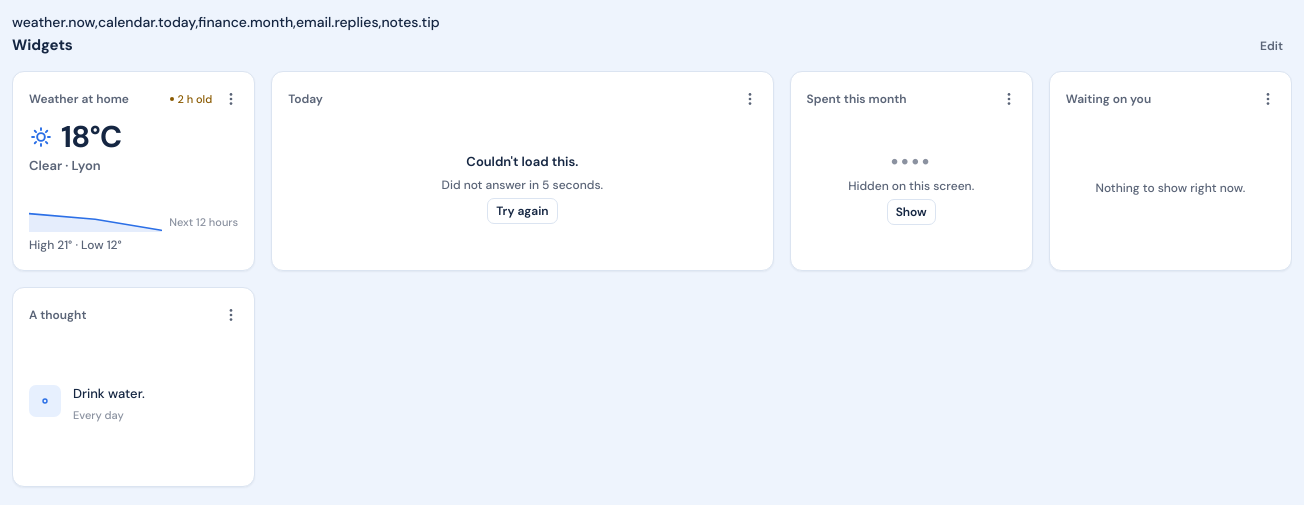
Test: the frame states › marks a stale body, says nothing to show, and offers Try again on a failure
This screenshot has width=1304, height=505.
Expected: the element "Weather at home" shows "2 h old", top-left (178, 92), bottom-right (212, 106)
Expected: the element "Weather at home" shows "18°C", top-left (29, 122), bottom-right (238, 254)
Click the button "Try again".
click(522, 211)  # box top-left (487, 198), bottom-right (558, 224)
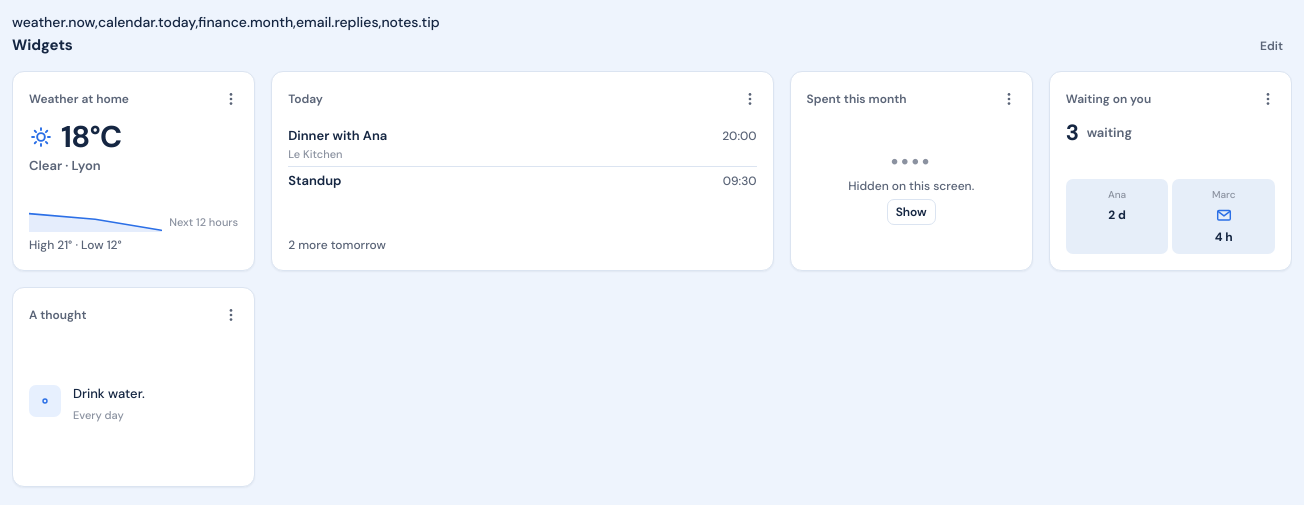
Expected: the element "Today" shows "Dinner with Ana", top-left (288, 127), bottom-right (387, 144)
